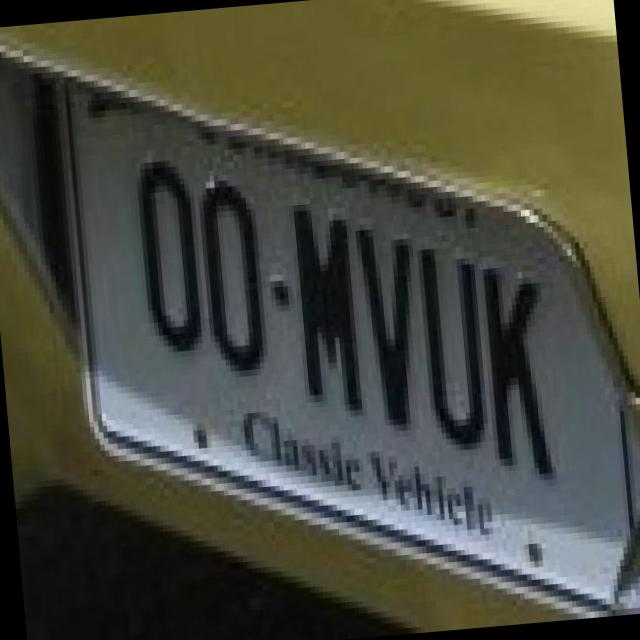0: (177, 146, 273, 374), (115, 134, 208, 356)
K: (464, 238, 564, 478)
M: (269, 176, 367, 422)
U: (388, 214, 489, 448)
V: (336, 201, 428, 434)
